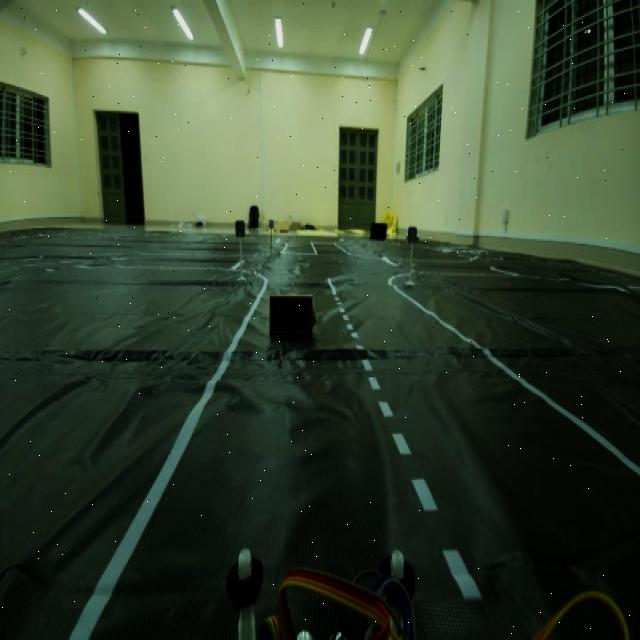roadblock: (268, 290, 320, 350)
